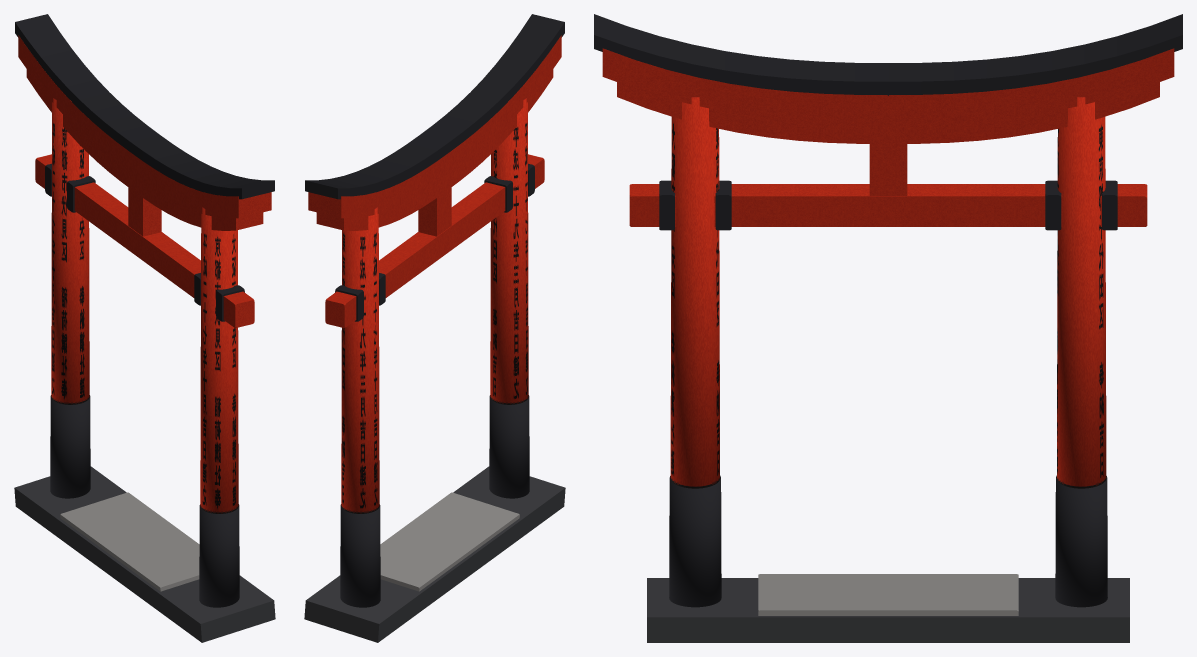
Rendered from Asset_09_Senbon_Torii_Modular_Segment.glb.
3 renders of one model, left to right at view 1: azimuth 30°, elevation 25°; view 2: azimuth 150°, elevation 25°; view 3: azimuth 270°, elevation 25°, orthographic. The views are drawn at different scales.
Visible parts, largest first — view 1: Z04_Senbon_North_00_Hashira_-1, Z04_Senbon_North_00_Hashira_1, Z04_Senbon_North_00_Kasagi_BlackCap, Z04_North_PebbleBed_00, Z04_North_Flagstone_00, Z04_Senbon_North_00_Nuki, Z04_Senbon_North_00_Kasagi_Body, Z04_Senbon_North_00_Nemaki_1, Z04_Senbon_North_00_Nemaki_-1, Z04_Senbon_North_00_Shimaki, Z04_Senbon_North_00_Gakuzuka, Z04_Senbon_North_00_Kusabi_1_-1 (+1 smaller); view 2: Z04_Senbon_North_00_Hashira_1, Z04_Senbon_North_00_Hashira_-1, Z04_Senbon_North_00_Kasagi_BlackCap, Z04_North_PebbleBed_00, Z04_North_Flagstone_00, Z04_Senbon_North_00_Nuki, Z04_Senbon_North_00_Kasagi_Body, Z04_Senbon_North_00_Nemaki_-1, Z04_Senbon_North_00_Nemaki_1, Z04_Senbon_North_00_Shimaki, Z04_Senbon_North_00_Gakuzuka, Z04_Senbon_North_00_Kusabi_-1_1 (+1 smaller); view 3: Z04_Senbon_North_00_Kasagi_BlackCap, Z04_North_PebbleBed_00, Z04_Senbon_North_00_Hashira_1, Z04_Senbon_North_00_Hashira_-1, Z04_Senbon_North_00_Kasagi_Body, Z04_Senbon_North_00_Nuki, Z04_North_Flagstone_00, Z04_Senbon_North_00_Shimaki, Z04_Senbon_North_00_Nemaki_1, Z04_Senbon_North_00_Nemaki_-1, Z04_Senbon_North_00_Gakuzuka, Z04_Senbon_North_00_Kusabi_1_-1 (+1 smaller).
Boxes of the visible parts, <box> form: Z04_Senbon_North_00_Hashira_-1: <box>200,207,238,513</box>; Z04_Senbon_North_00_Hashira_1: <box>51,98,89,404</box>; Z04_Senbon_North_00_Kasagi_BlackCap: <box>15,14,274,199</box>; Z04_North_PebbleBed_00: <box>14,466,275,642</box>; Z04_North_Flagstone_00: <box>60,492,199,591</box>; Z04_Senbon_North_00_Nuki: <box>35,154,254,327</box>; Z04_Senbon_North_00_Kasagi_Body: <box>18,35,271,218</box>; Z04_Senbon_North_00_Nemaki_1: <box>50,395,90,498</box>; Z04_Senbon_North_00_Nemaki_-1: <box>199,504,239,607</box>; Z04_Senbon_North_00_Shimaki: <box>26,69,263,230</box>; Z04_Senbon_North_00_Gakuzuka: <box>128,187,161,236</box>; Z04_Senbon_North_00_Kusabi_1_-1: <box>67,176,95,212</box>; Z04_Senbon_North_00_Hashira_1: <box>341,207,379,513</box>; Z04_Senbon_North_00_Hashira_-1: <box>490,98,528,404</box>; Z04_Senbon_North_00_Kasagi_BlackCap: <box>305,14,564,199</box>; Z04_North_PebbleBed_00: <box>304,466,565,642</box>; Z04_North_Flagstone_00: <box>380,492,519,591</box>; Z04_Senbon_North_00_Nuki: <box>325,154,544,327</box>; Z04_Senbon_North_00_Kasagi_Body: <box>308,35,561,218</box>; Z04_Senbon_North_00_Nemaki_-1: <box>489,395,529,498</box>; Z04_Senbon_North_00_Nemaki_1: <box>340,504,380,607</box>; Z04_Senbon_North_00_Shimaki: <box>316,69,553,230</box>; Z04_Senbon_North_00_Gakuzuka: <box>418,187,451,236</box>; Z04_Senbon_North_00_Kusabi_-1_1: <box>484,176,512,212</box>; Z04_Senbon_North_00_Kasagi_BlackCap: <box>594,14,1182,95</box>; Z04_North_PebbleBed_00: <box>647,578,1129,642</box>; Z04_Senbon_North_00_Hashira_1: <box>1056,97,1106,488</box>; Z04_Senbon_North_00_Hashira_-1: <box>670,97,720,488</box>; Z04_Senbon_North_00_Kasagi_Body: <box>602,48,1174,123</box>; Z04_Senbon_North_00_Nuki: <box>629,184,1147,226</box>; Z04_North_Flagstone_00: <box>758,574,1018,615</box>; Z04_Senbon_North_00_Shimaki: <box>617,82,1159,143</box>; Z04_Senbon_North_00_Nemaki_1: <box>1055,475,1107,607</box>; Z04_Senbon_North_00_Nemaki_-1: <box>669,475,721,607</box>; Z04_Senbon_North_00_Gakuzuka: <box>869,144,907,195</box>; Z04_Senbon_North_00_Kusabi_1_-1: <box>1045,180,1061,230</box>.
Size of the model in its own units: 0.5688 by 3.37 by 2.99.
5 materials, 2 textured.
